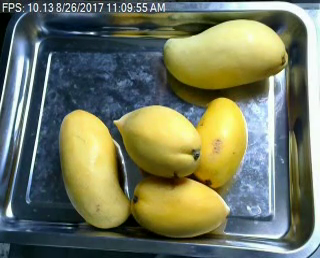Mango: (52, 102, 133, 229), (161, 19, 292, 88), (129, 172, 235, 239), (185, 92, 253, 188), (116, 106, 202, 180)
